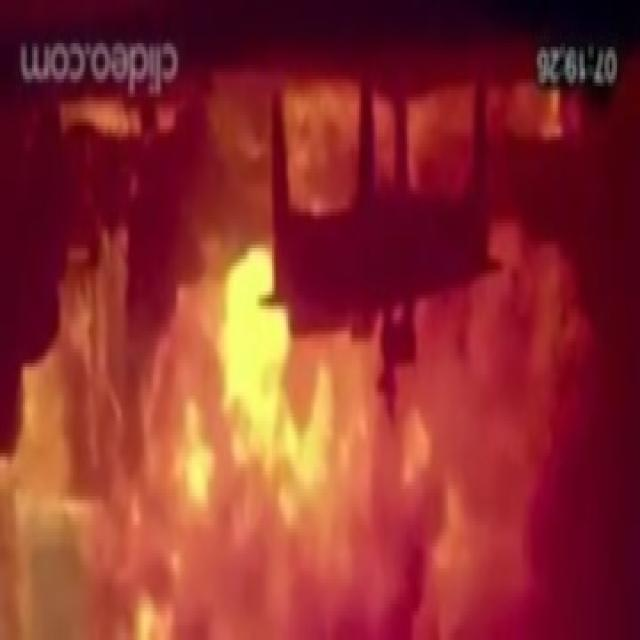fire: (0, 104, 620, 639)
